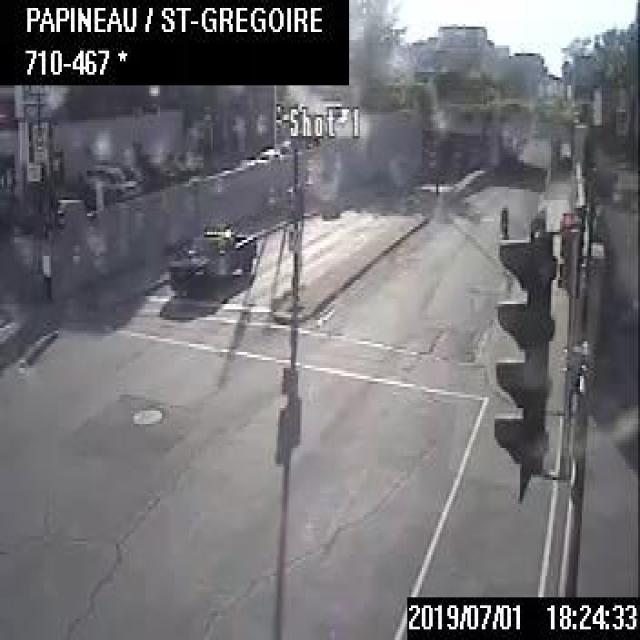pedestrian: (498, 203, 507, 237)
vehicle: (167, 224, 255, 291), (82, 161, 135, 197)
